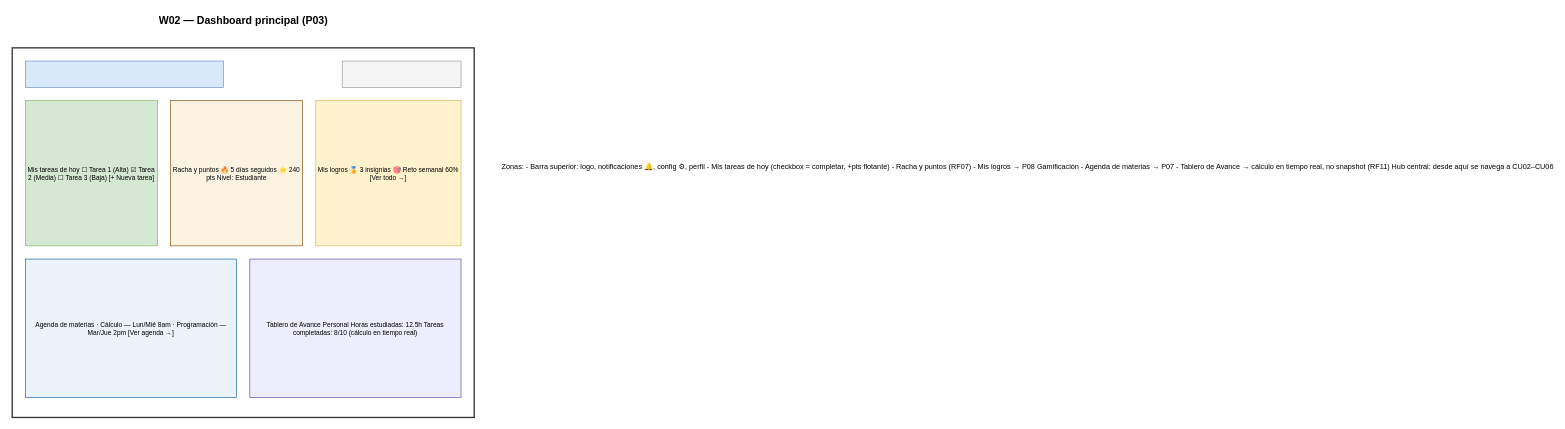
The diagram is 1565 pixels wide and 429 high, and some of its shapes have lost their labels. The shapes that lost their labels are listed below. From the top down, each one's box as (x1, y1, x2, y2) in pixels, then its label:
(25, 60, 223, 87): ☰ Plataforma Gamificada
(342, 60, 461, 87): 🔔 ⚙ 👤 Estudiante
